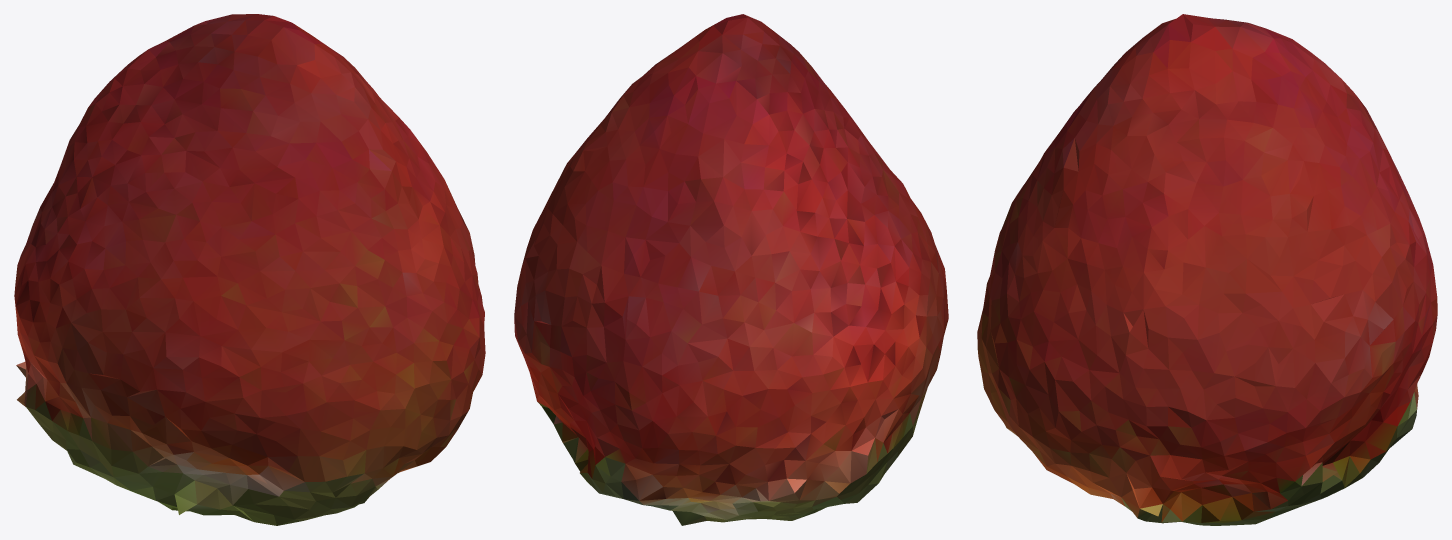
3 views of the same model, side by side, from view 1: azimuth 30°, elevation 25°; view 2: azimuth 150°, elevation 25°; view 3: azimuth 270°, elevation 25° (orthographic). The views are drawn at different scales.
Visible parts, largest first — view 1: strawberry_07_visual; view 2: strawberry_07_visual; view 3: strawberry_07_visual.
Part boxes in pixels (x1,y1,x2,y2): strawberry_07_visual: (14,14,485,525); strawberry_07_visual: (514,14,948,525); strawberry_07_visual: (977,14,1437,525).
Bounding box in the file's own units: 0.8592 × 0.8862 × 1.01.
